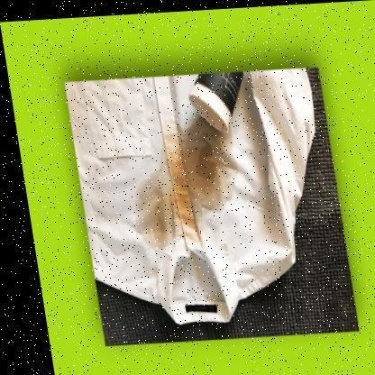coffee: (187, 130, 222, 192), (142, 186, 184, 224)
